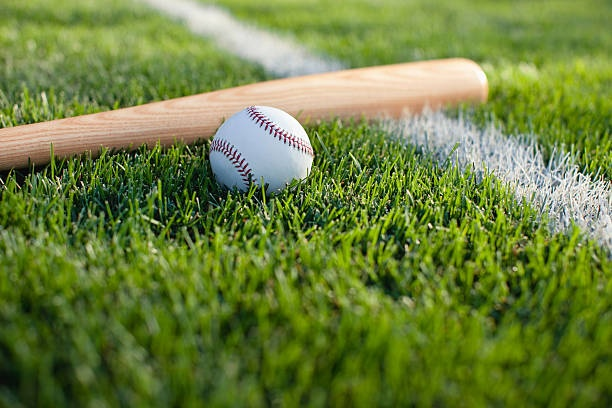bita: (1, 56, 486, 171)
